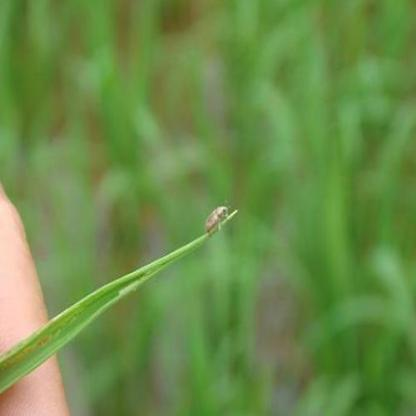rice-bug: (206, 204, 228, 238)
